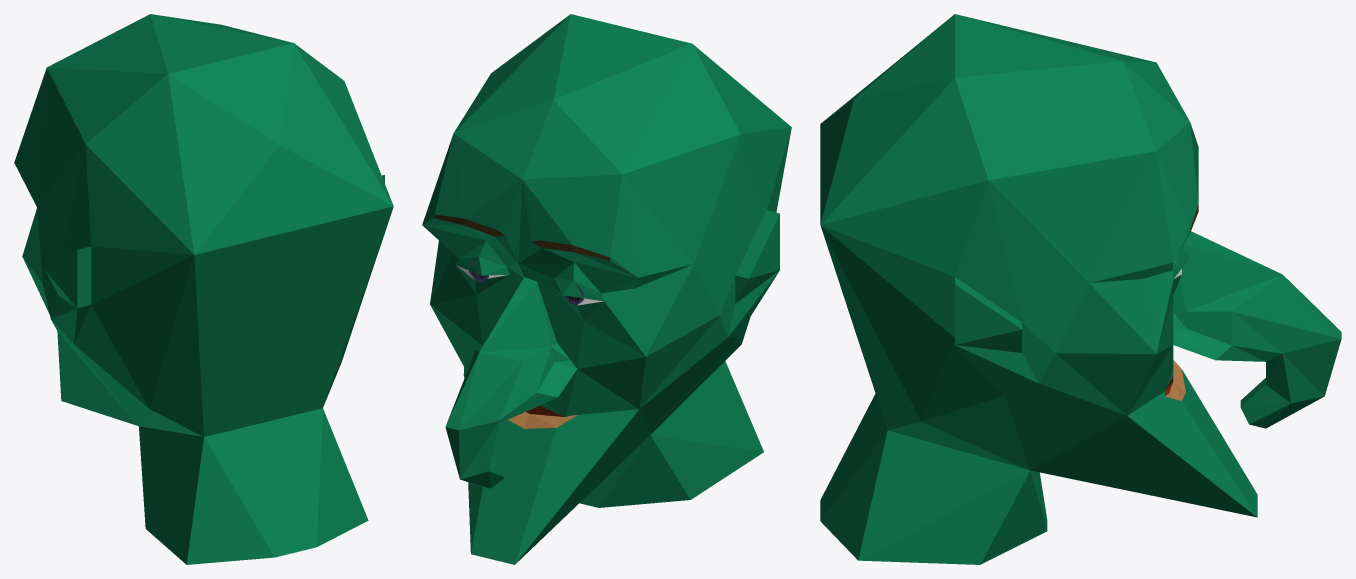
File: npc_chat_witch_3_0.obj
3 views of the same model, side by side, from view 1: azimuth 30°, elevation 25°; view 2: azimuth 150°, elevation 25°; view 3: azimuth 270°, elevation 25° (orthographic). The views are drawn at different scales.
Bounding box in the file's own units: 0.6875 × 0.9844 × 0.9688.
